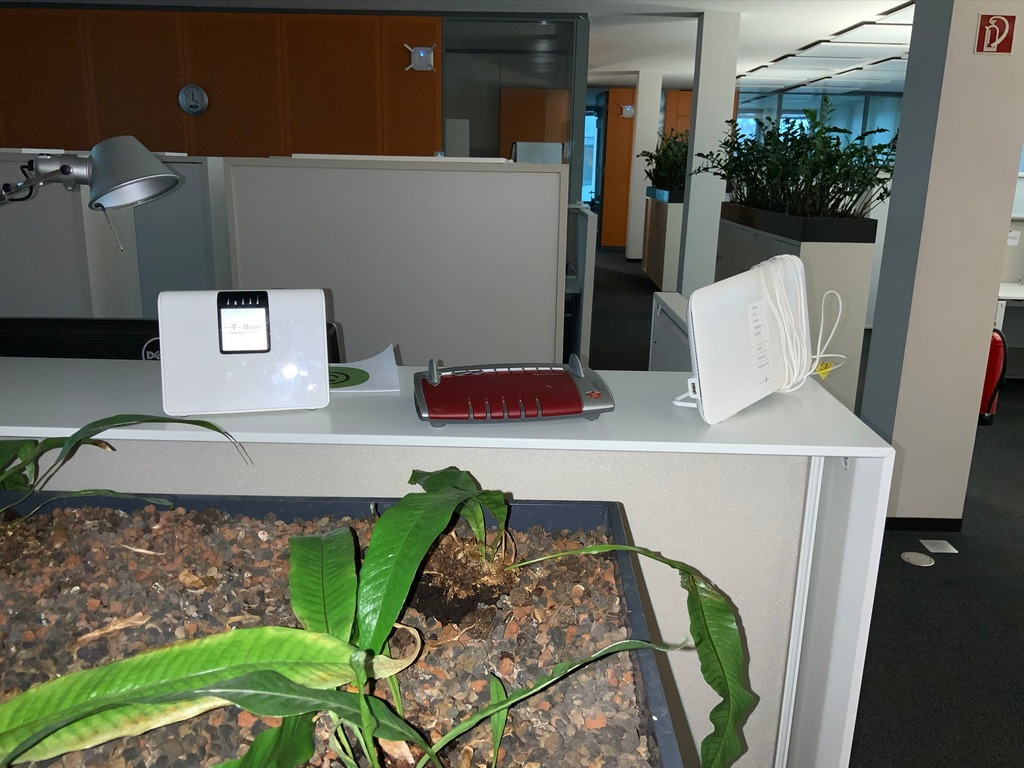Router2: (157, 290, 334, 417)
router: (689, 250, 814, 424)
router3: (412, 355, 620, 429)
